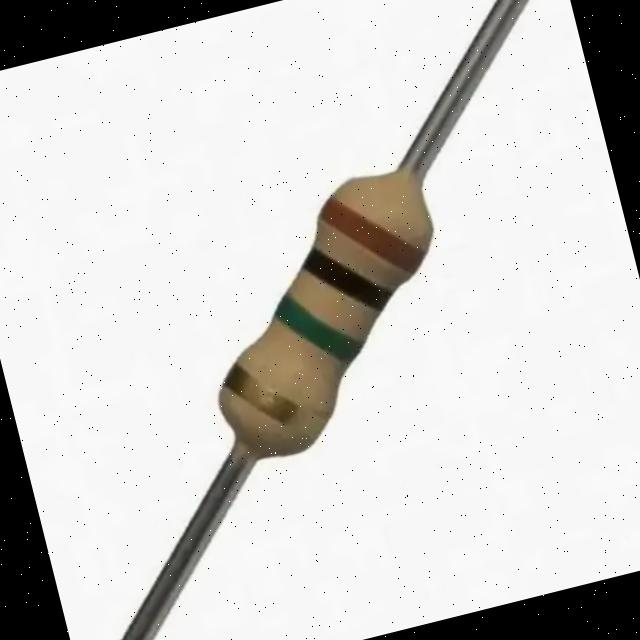black: (288, 228, 406, 326)
brown: (313, 180, 441, 281)
gold: (210, 346, 353, 457)
green: (257, 285, 373, 381)
resistor: (173, 98, 492, 514)
